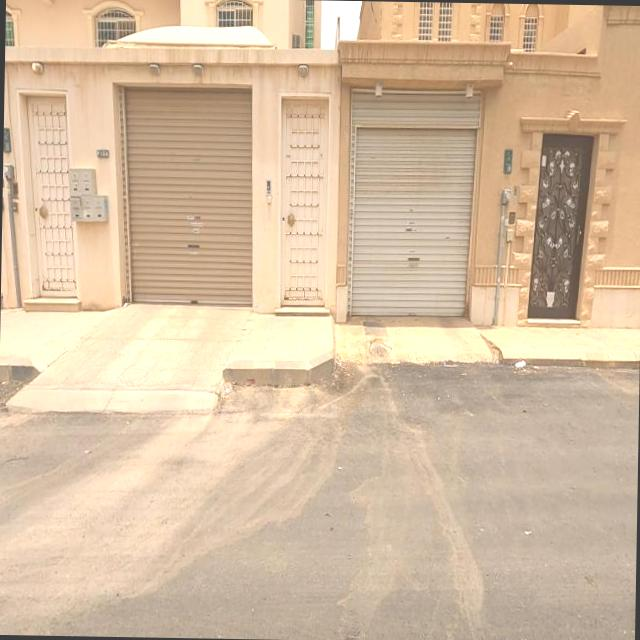debris: (498, 336, 544, 393)
